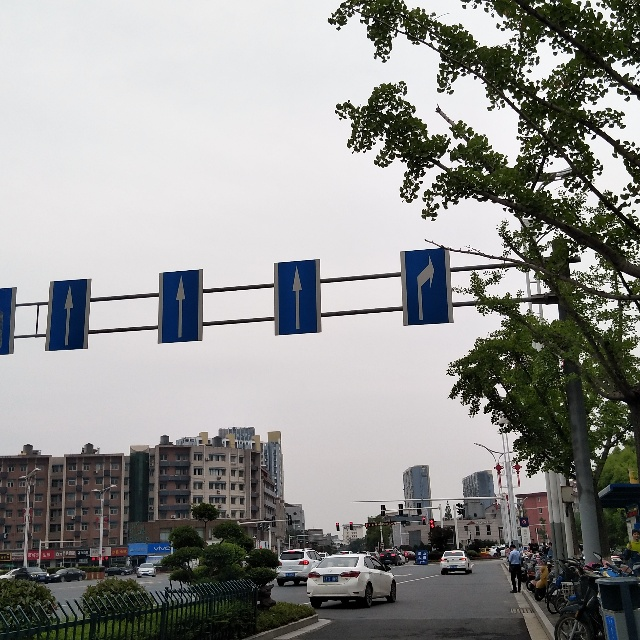right: (398, 245, 456, 330)
straight: (43, 275, 98, 358), (153, 268, 206, 349), (273, 257, 323, 341)
